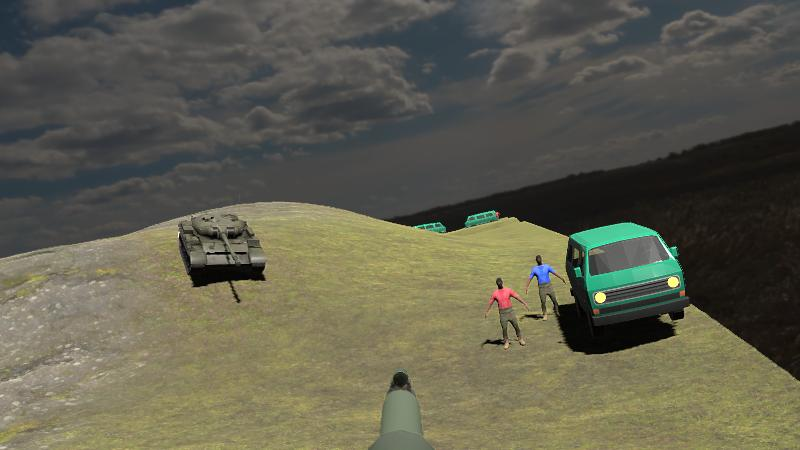Human: (486, 277, 528, 349), (527, 254, 564, 320)
Tank: (178, 211, 267, 283)
car: (566, 221, 687, 344)
